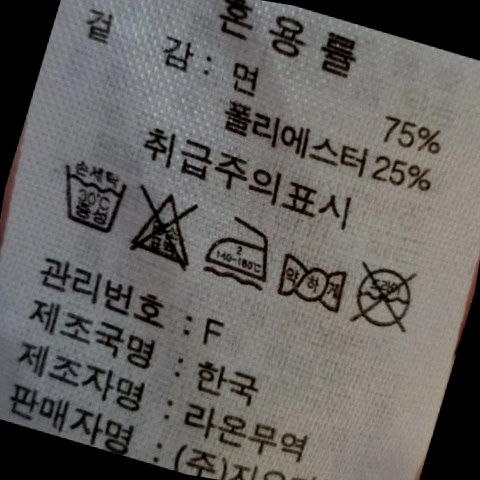DN_dry_clean: (341, 251, 430, 343)
hand_wash: (44, 155, 137, 242)
iron_medium: (200, 209, 283, 290)
non_chlorine_bleach: (119, 177, 218, 279)
wring: (268, 244, 357, 321)
